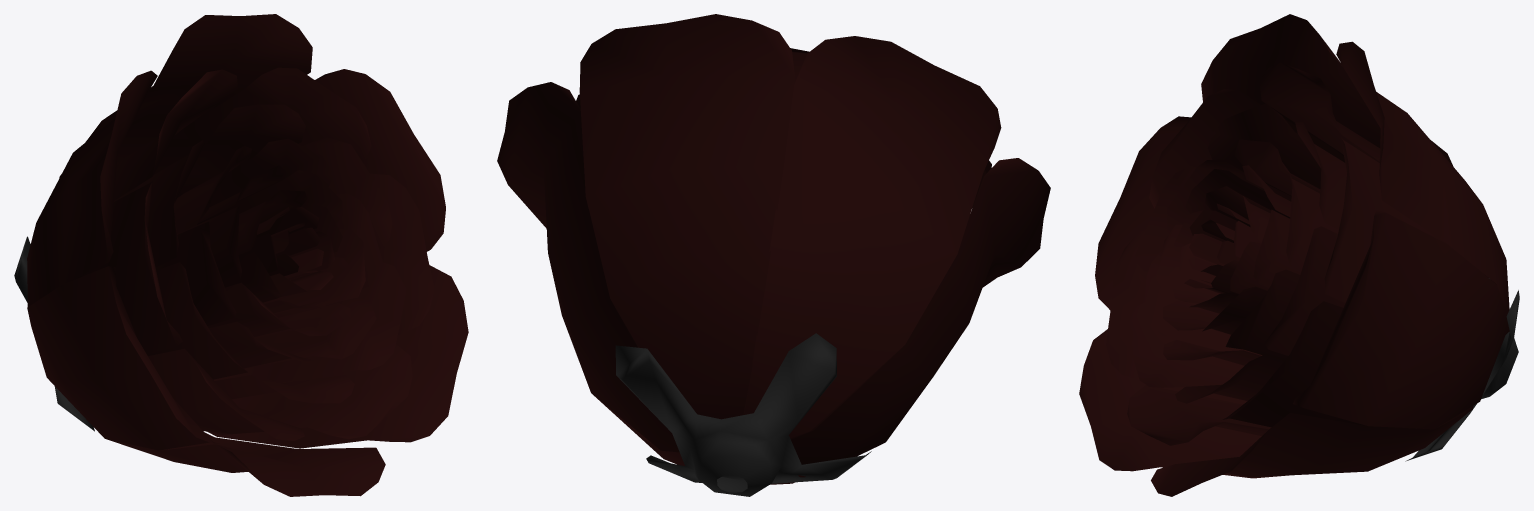
Rendered from WorldItem-DimitrescuRose.fbx.
The picture shows the model from 3 angles, left to right: view 1: azimuth 30°, elevation 25°; view 2: azimuth 150°, elevation 25°; view 3: azimuth 270°, elevation 25°; orthographic projection. The views are drawn at different scales.
Parts seen in each view (by area): view 1: Rose; view 2: Rose; view 3: Rose.
Boxes of the visible parts, x1=… form: Rose: x1=14, y1=14, x2=468, y2=496; Rose: x1=497, y1=14, x2=1050, y2=496; Rose: x1=1079, y1=14, x2=1519, y2=496.
Size of the model in its own units: 0.0424 by 0.0413 by 0.0392.
